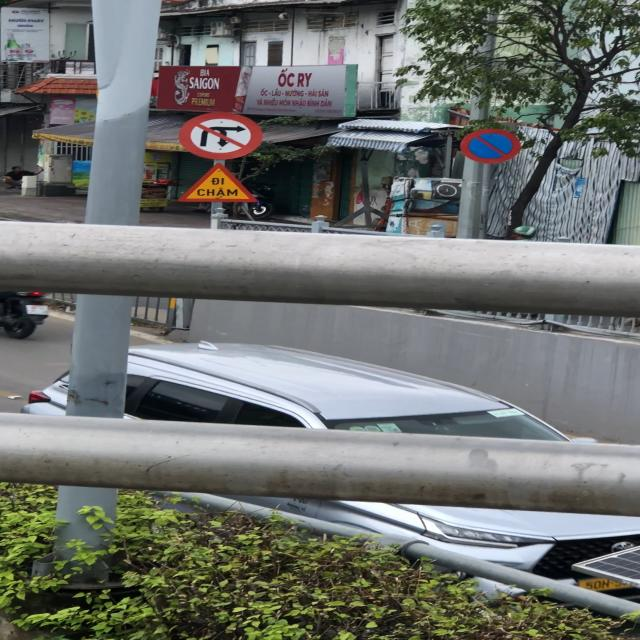Bien bao cam re phai va quay dau: (176, 109, 267, 164)
